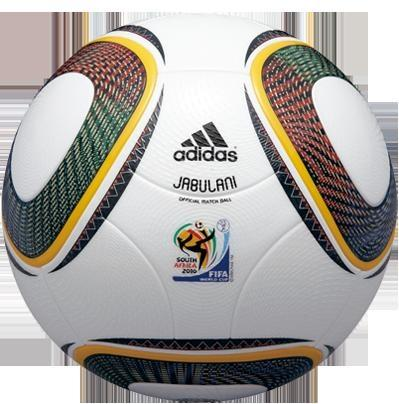Sports-Ball: (6, 23, 399, 403)
